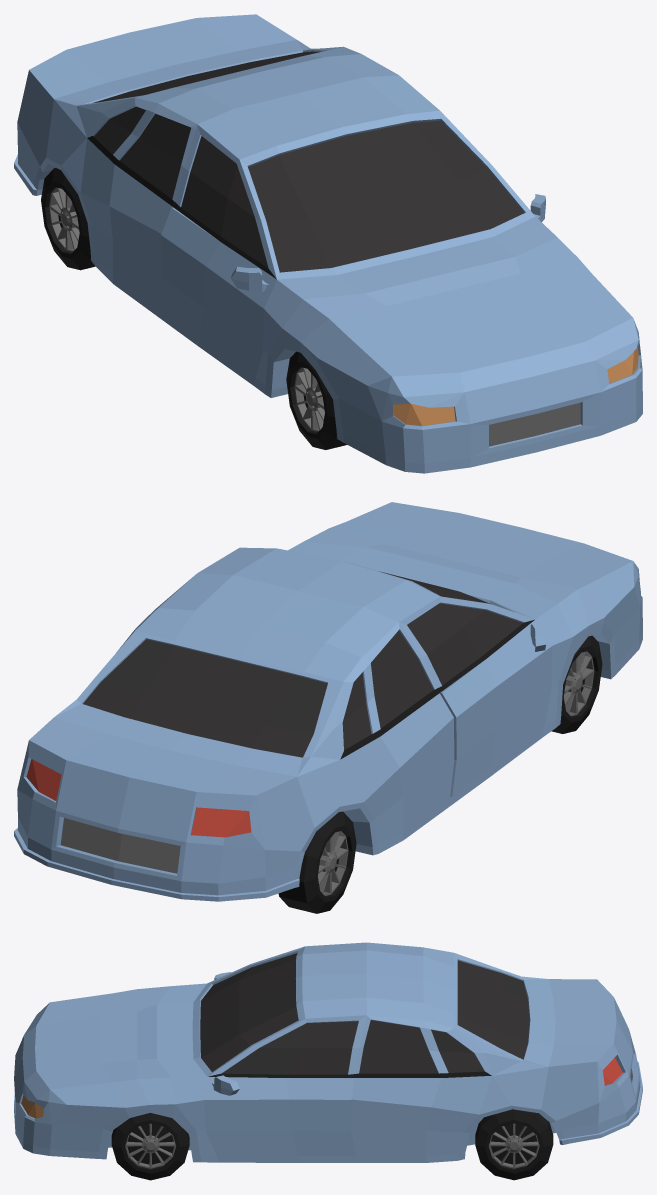
File: car_sedan1.glb
3 views of the same model, one above another, from view 1: azimuth 30°, elevation 25°; view 2: azimuth 150°, elevation 25°; view 3: azimuth 270°, elevation 25° (orthographic). The views are drawn at different scales.
Visible parts, largest first — view 1: NormalCar1_Cube.012; view 2: NormalCar1_Cube.012; view 3: NormalCar1_Cube.012.
Part boxes in pixels (x1,y1,x2,y2): NormalCar1_Cube.012: (14, 14, 642, 473); NormalCar1_Cube.012: (14, 502, 642, 913); NormalCar1_Cube.012: (14, 942, 642, 1180).
Bounding box in the file's own units: 1.81 × 1.18 × 4.22.
1 material, 1 textured.
